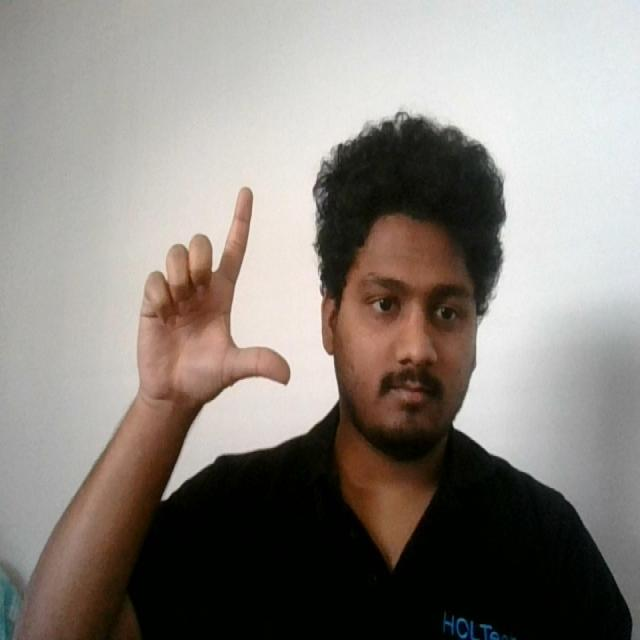IloveYou: (126, 177, 301, 431)
